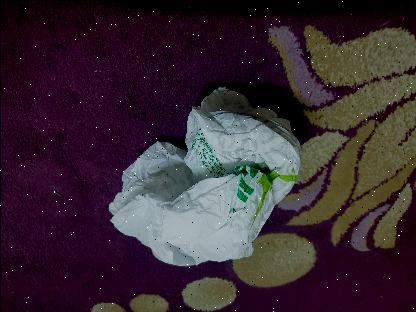Others: (108, 86, 298, 264)
